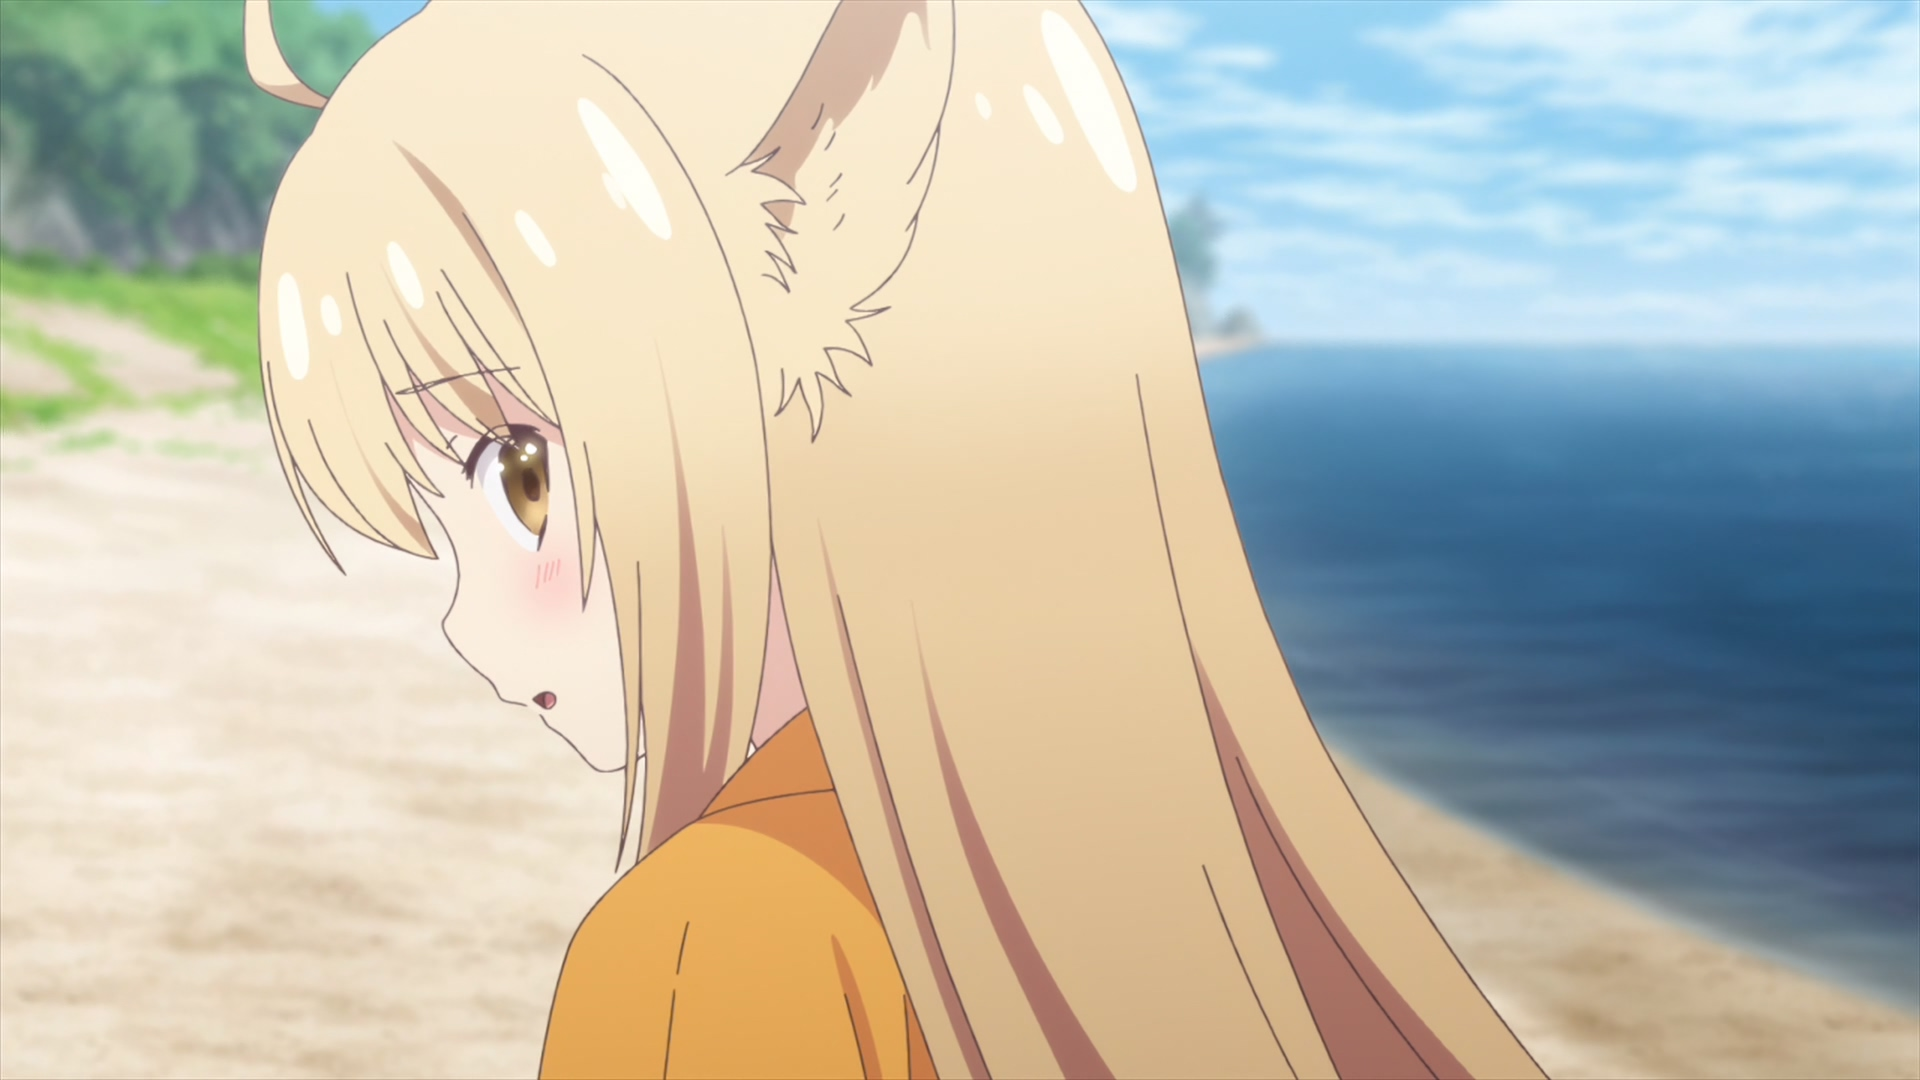柚: (243, 1, 1551, 1080)
